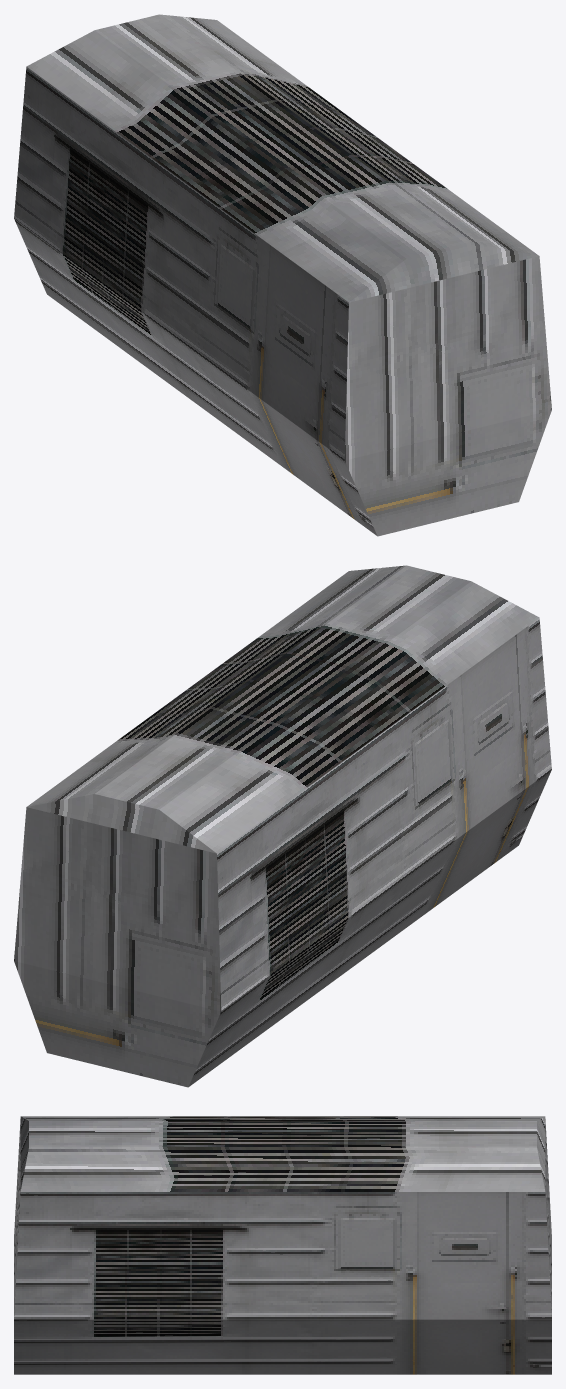
The model's file is Train.glb.
3 views of the same model, one above another, from view 1: azimuth 30°, elevation 25°; view 2: azimuth 150°, elevation 25°; view 3: azimuth 270°, elevation 25° (orthographic). The views are drawn at different scales.
Parts seen in each view (by area): view 1: Cube; view 2: Cube; view 3: Cube.
Part boxes in pixels (x1=…): Cube: x1=14, y1=14, x2=551, y2=536; Cube: x1=14, y1=565, x2=551, y2=1087; Cube: x1=14, y1=1116, x2=551, y2=1374.
Bounding box in the file's own units: 1.45 × 1.75 × 4.
Materials: 1 (1 with a texture image).
